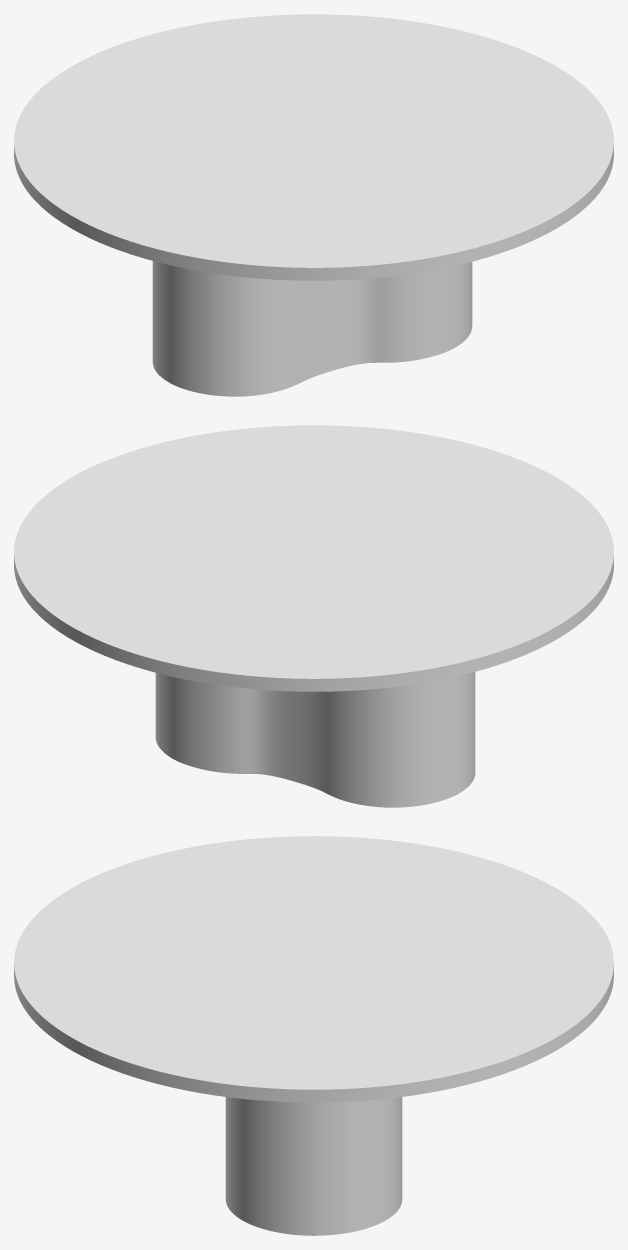
The model's file is purewhite_round_standard_riverwave.glb.
The picture shows the model from 3 angles, top to bottom: view 1: azimuth 30°, elevation 25°; view 2: azimuth 150°, elevation 25°; view 3: azimuth 270°, elevation 25°; orthographic projection.
Parts seen in each view (by area): view 1: standard_round, riverwave; view 2: standard_round, riverwave; view 3: standard_round, riverwave.
Part boxes in pixels (x1,y1,x2,y2): standard_round: [14, 14, 613, 280]; riverwave: [152, 261, 472, 396]; standard_round: [14, 425, 613, 691]; riverwave: [155, 672, 475, 807]; standard_round: [14, 836, 613, 1102]; riverwave: [225, 1097, 402, 1235].
Size of the model in its own units: 6.75 by 2.5 by 6.75.
1 material, 1 textured.
